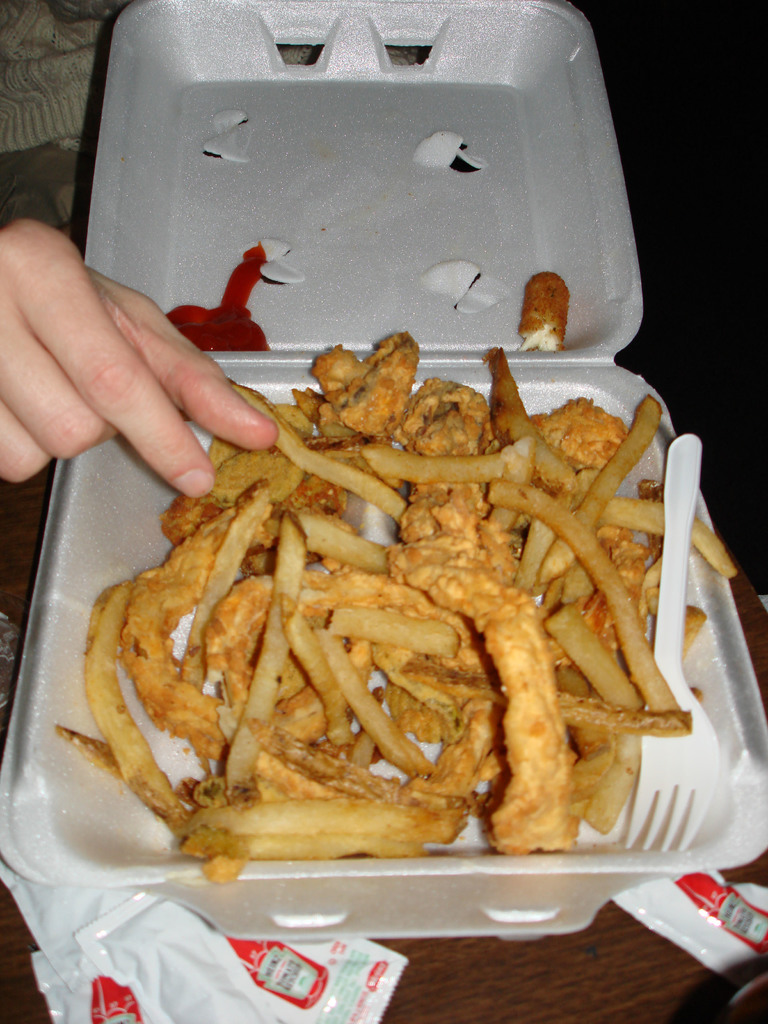French fries: (39, 361, 744, 869)
